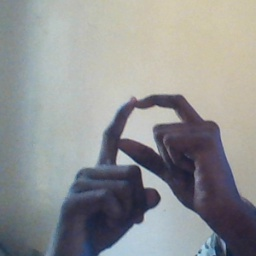D: (80, 90, 222, 205)
